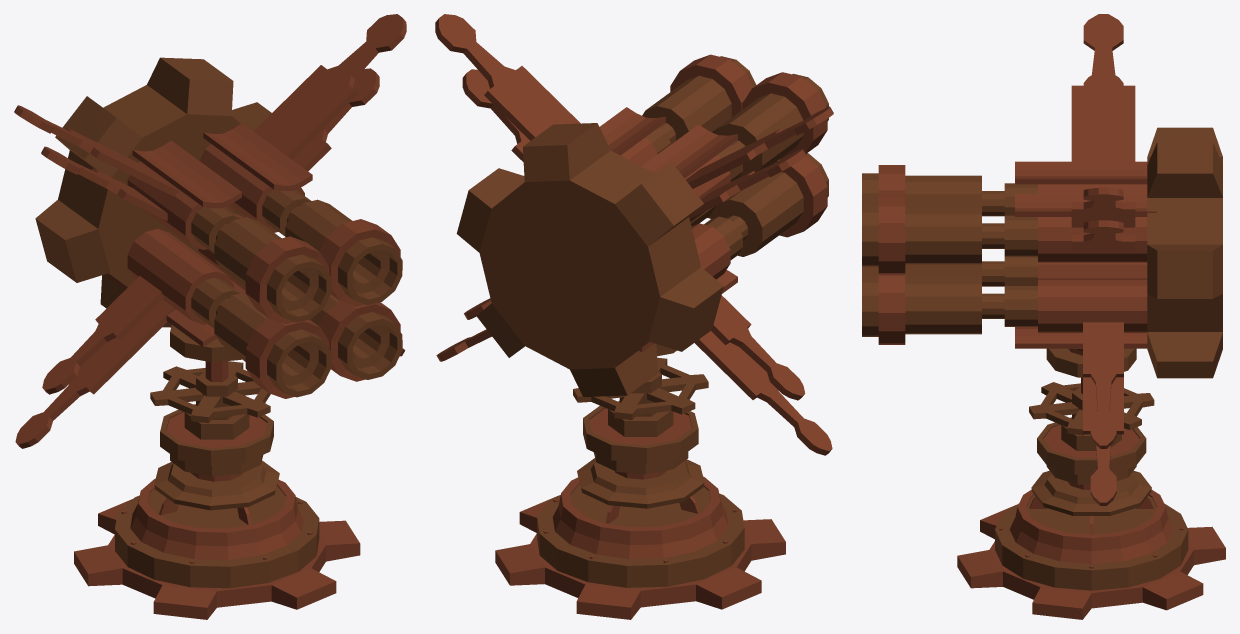
Rendered from Bomber_2.glb.
The picture shows the model from 3 angles, left to right: view 1: azimuth 30°, elevation 25°; view 2: azimuth 150°, elevation 25°; view 3: azimuth 270°, elevation 25°; orthographic projection. The views are drawn at different scales.
Parts seen in each view (by area): view 1: Bomber_2_Gun, Bomber_2_Base, Bomber_2_Mid; view 2: Bomber_2_Gun, Bomber_2_Base, Bomber_2_Mid; view 3: Bomber_2_Gun, Bomber_2_Base, Bomber_2_Mid.
Part boxes in pixels (box(x1,y1,x2,y2)): Bomber_2_Gun: box(14, 14, 406, 448); Bomber_2_Base: box(74, 404, 360, 619); Bomber_2_Mid: box(150, 325, 270, 439); Bomber_2_Gun: box(435, 14, 833, 455); Bomber_2_Base: box(495, 405, 785, 619); Bomber_2_Mid: box(573, 344, 708, 436); Bomber_2_Gun: box(862, 14, 1222, 505); Bomber_2_Base: box(957, 417, 1225, 619); Bomber_2_Mid: box(1029, 348, 1154, 450).
Size of the model in its own units: 2.15 by 2.63 by 1.87.
